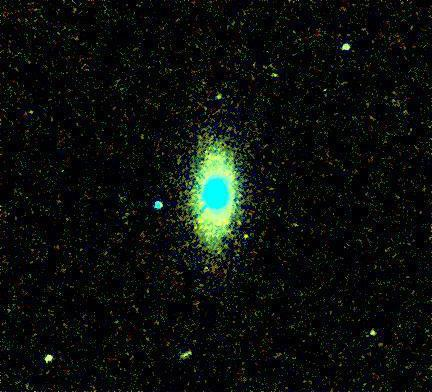star: (229, 222, 259, 252)
